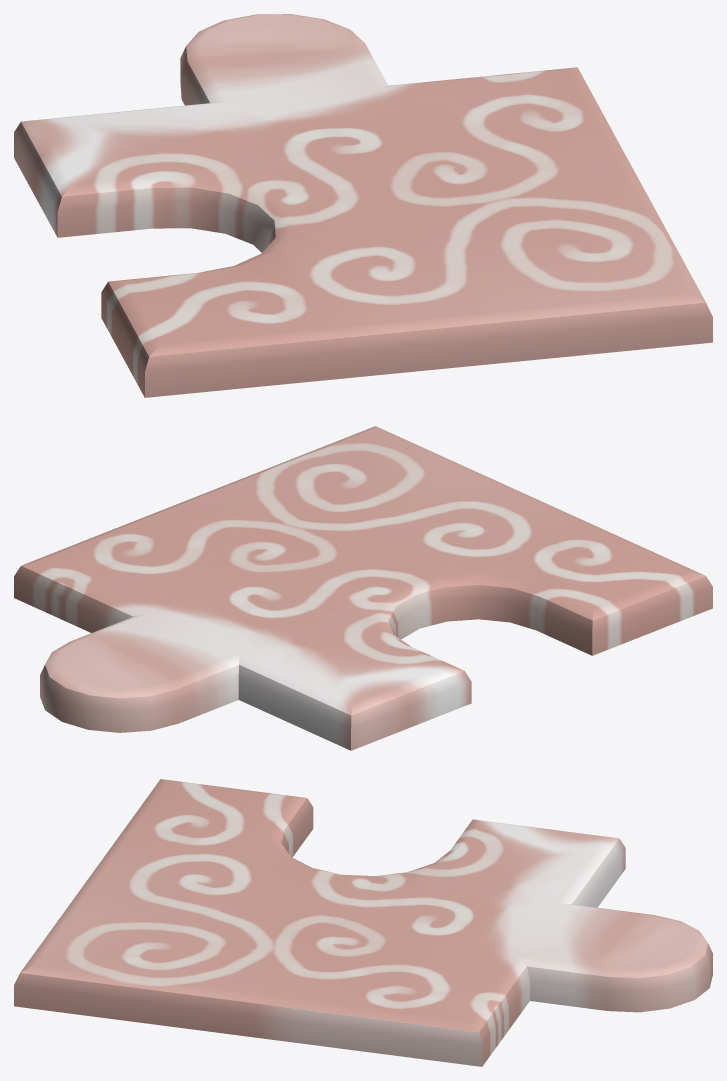
File: PuzzlePiece1.fbx
3 renders of one model, top to bottom at view 1: azimuth 30°, elevation 25°; view 2: azimuth 150°, elevation 25°; view 3: azimuth 270°, elevation 25°, orthographic. The views are drawn at different scales.
Visible parts, largest first — view 1: puzzle1:polySurface1; view 2: puzzle1:polySurface1; view 3: puzzle1:polySurface1.
Part boxes in pixels (x1,y1,x2,y2): puzzle1:polySurface1: (14,14,712,397); puzzle1:polySurface1: (14,426,712,750); puzzle1:polySurface1: (14,779,712,1066).
Bounding box in the file's own units: 1.25 × 0.0821 × 1.43.
Materials: 2 (1 with a texture image).
